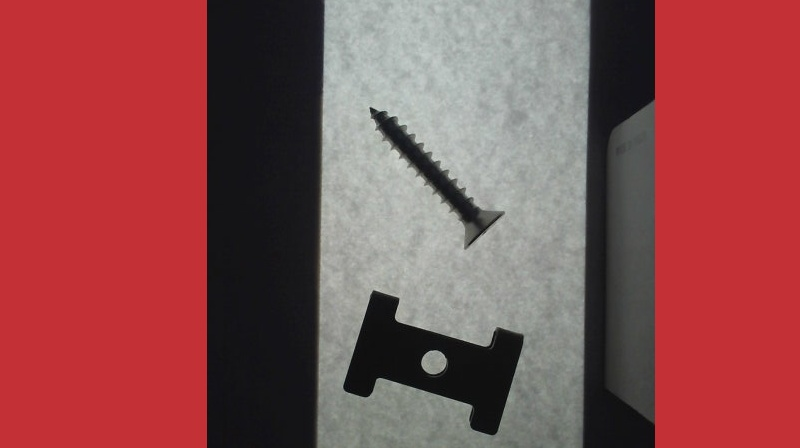O002: (342, 291, 524, 437)
S001: (364, 105, 503, 249)
